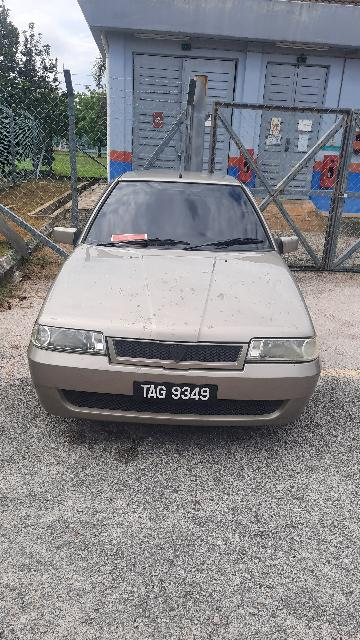License_Plate: (127, 377, 225, 411)
car: (28, 168, 330, 435)
